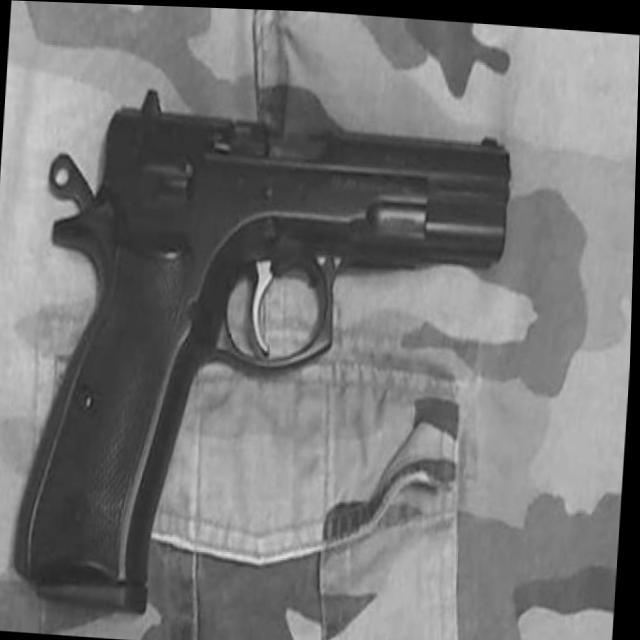weapon: (11, 69, 517, 634)
